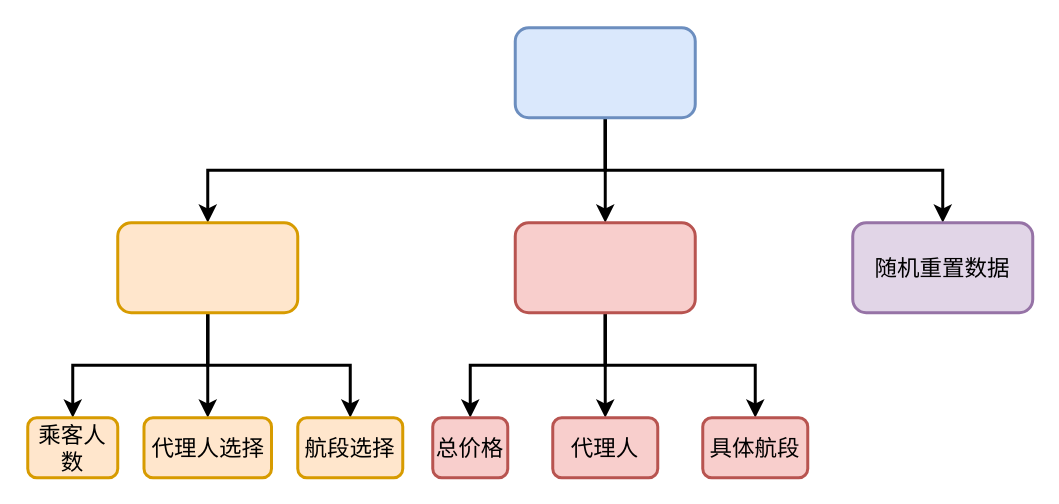
Some shapes in this 1059 by 504 pixel diagram are drawn without their labels. Each missing label, with the centre of its shape:
"前端" belongs at point (604, 72).
"查询结果" belongs at point (604, 267).
"用户查询" belongs at point (207, 267).
